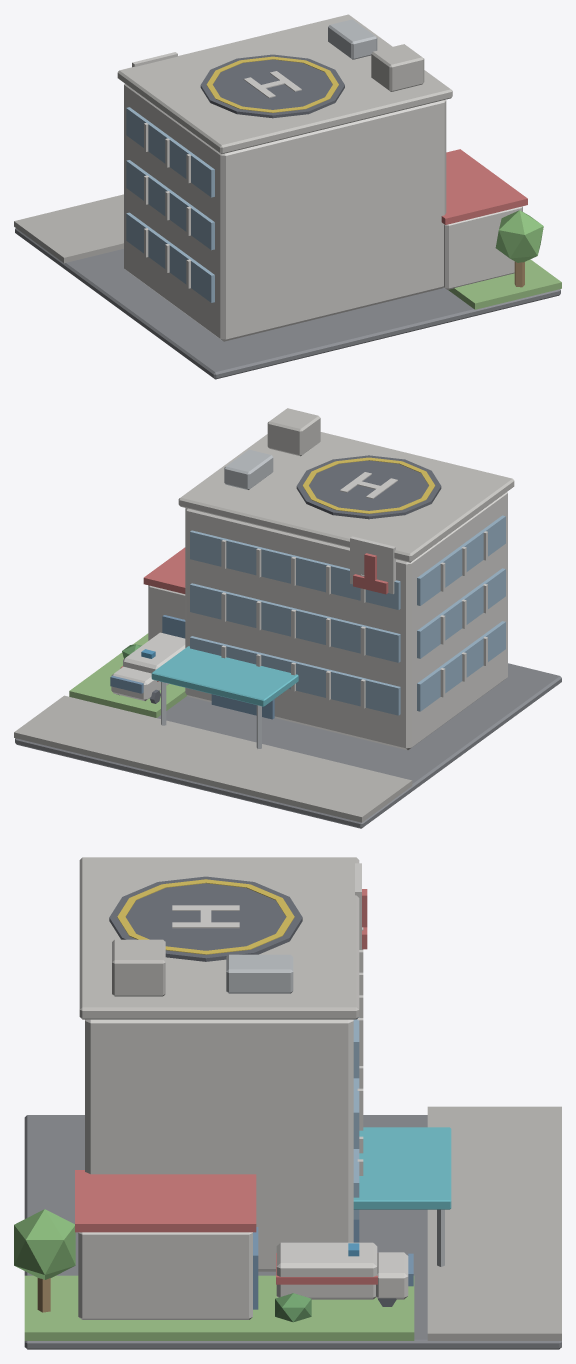
The model's file is publicos__hospital.glb.
3 renders of one model, top to bottom at view 1: azimuth 30°, elevation 25°; view 2: azimuth 150°, elevation 25°; view 3: azimuth 270°, elevation 25°, orthographic. The views are drawn at different scales.
Visible parts, largest first — view 1: publicos__hospital; view 2: publicos__hospital; view 3: publicos__hospital.
Boxes of the visible parts, <box> form: publicos__hospital: <box>14,14,561,379</box>; publicos__hospital: <box>14,408,561,828</box>; publicos__hospital: <box>14,857,561,1349</box>.
Bounding box in the file's own units: 4 × 2.64 × 4.08.
